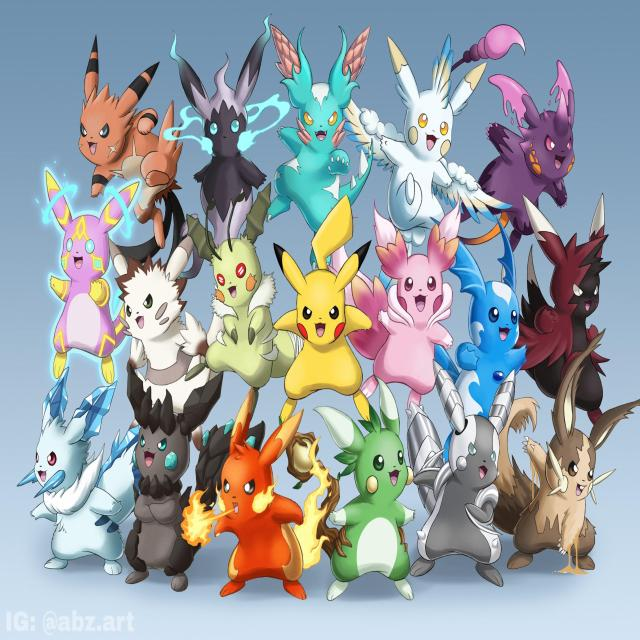Pikachu: (263, 228, 379, 419)
